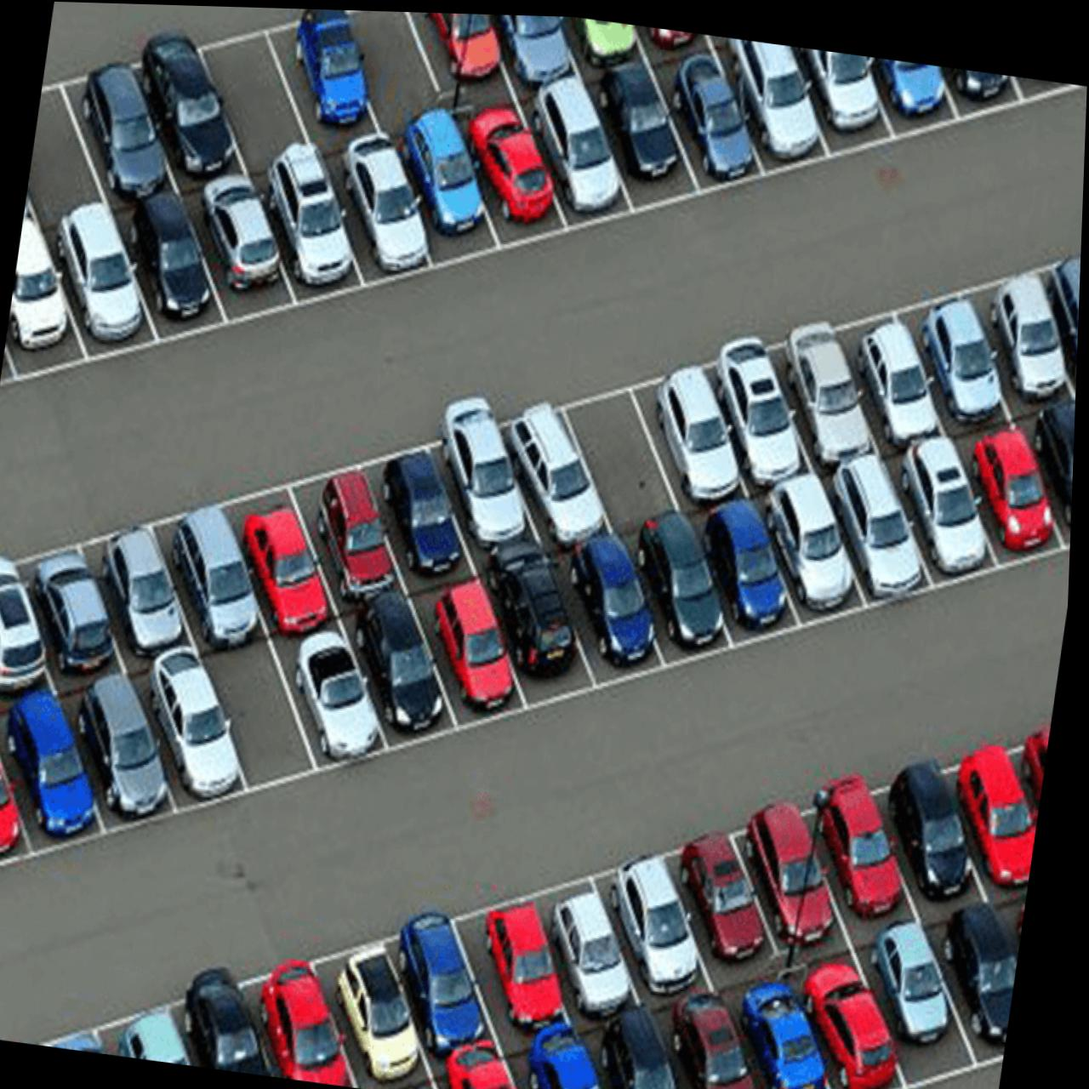cars: (708, 801, 868, 972), (222, 469, 352, 652), (851, 914, 989, 1085), (107, 23, 253, 184), (850, 754, 995, 911), (449, 876, 586, 1041), (650, 819, 787, 983), (372, 906, 512, 1065), (578, 843, 723, 993), (744, 466, 878, 628), (495, 377, 625, 543), (518, 853, 648, 1016), (781, 776, 922, 926), (416, 581, 552, 735), (130, 657, 263, 813), (647, 53, 786, 201), (821, 462, 954, 615), (880, 442, 1012, 596), (40, 56, 177, 204), (343, 598, 472, 755), (918, 730, 1048, 885), (316, 921, 438, 1083), (39, 214, 169, 366), (94, 496, 208, 666), (24, 510, 131, 691), (370, 425, 484, 593), (433, 389, 551, 551), (254, 8, 390, 148), (270, 632, 407, 770), (688, 505, 818, 650), (630, 368, 759, 514), (583, 66, 711, 212), (476, 554, 602, 702), (382, 128, 513, 268), (65, 675, 178, 837), (957, 418, 1075, 573), (705, 37, 838, 173), (925, 892, 1026, 1071), (165, 488, 272, 655), (619, 524, 743, 668), (521, 86, 645, 230), (306, 454, 418, 613), (106, 195, 233, 334), (782, 957, 915, 1089), (246, 940, 364, 1087), (551, 539, 670, 683), (0, 697, 115, 845), (696, 332, 808, 483), (251, 172, 377, 306), (183, 171, 298, 316), (900, 274, 1019, 413), (454, 115, 576, 247), (319, 150, 440, 279), (762, 327, 880, 459), (966, 258, 1081, 390), (839, 308, 952, 436), (1, 230, 96, 382), (732, 977, 857, 1089), (655, 979, 766, 1089), (790, 48, 903, 154), (584, 985, 693, 1089), (0, 518, 62, 699), (409, 12, 511, 98), (1030, 234, 1081, 373), (493, 15, 579, 86), (0, 727, 39, 869)
empty: (181, 11, 327, 153), (559, 372, 687, 529), (193, 653, 331, 790), (321, 10, 454, 133), (25, 83, 117, 212)
